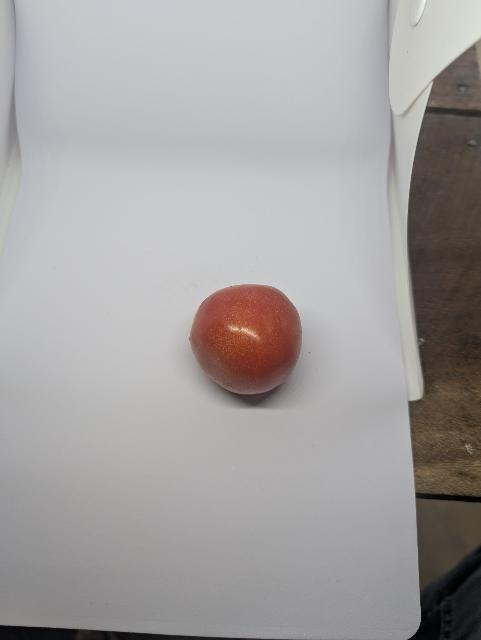red: (163, 250, 340, 441)
